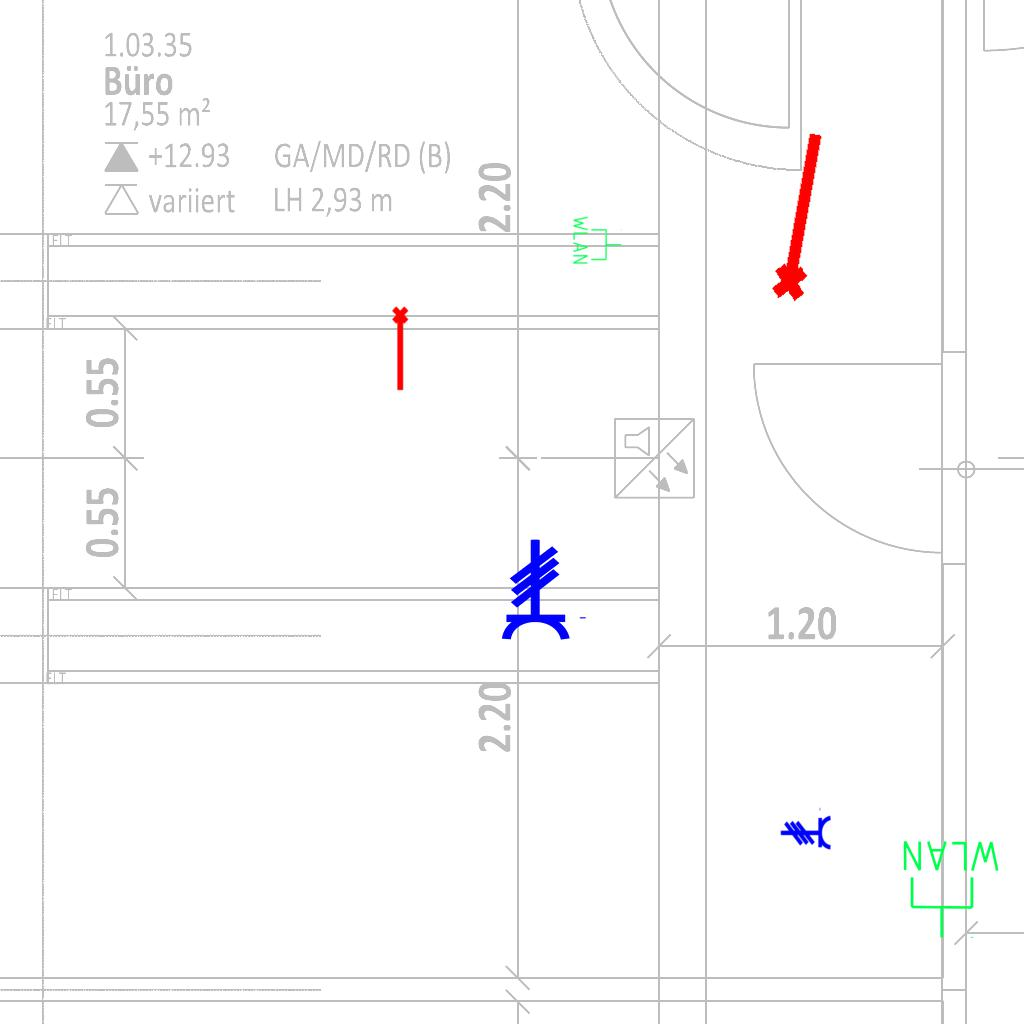ASR_Ansaugoeffnung: (761, 124, 837, 306), (390, 305, 413, 393)
CEE_Drehstrom_Steckdose_16_32_A: (499, 538, 589, 642), (780, 806, 832, 851)
WLAN: (899, 837, 1004, 941), (571, 214, 623, 266)
